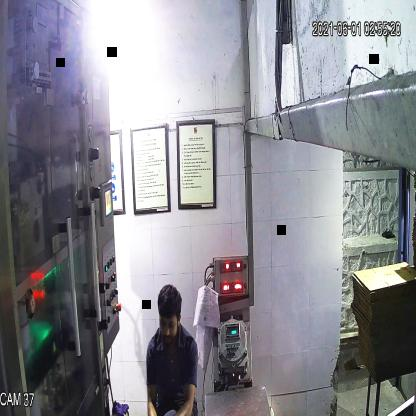no_goggles: (157, 314, 181, 334)
